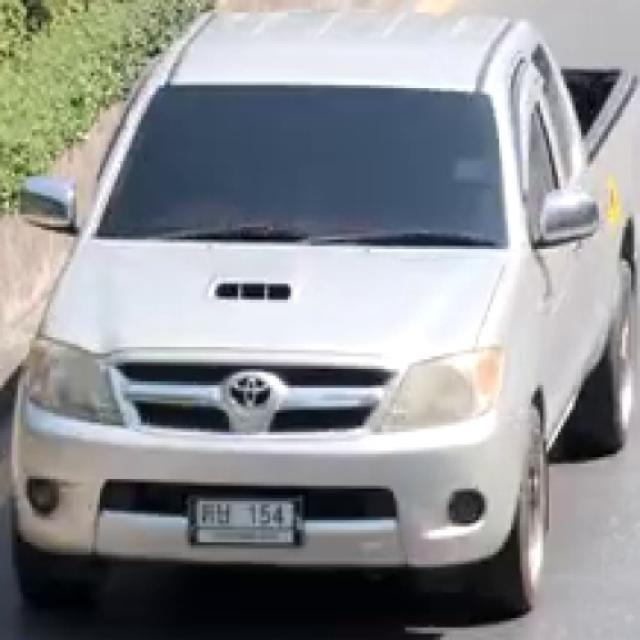plate: (195, 494, 298, 545)
